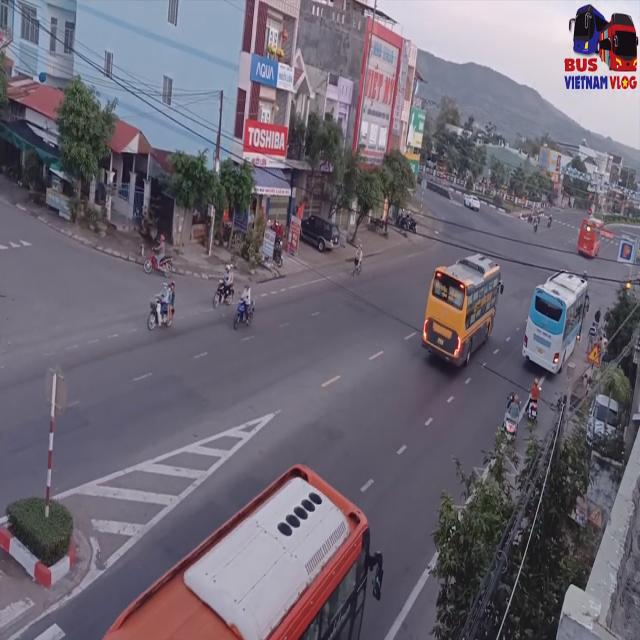bus: (104, 460, 385, 636), (424, 255, 504, 372), (523, 274, 592, 384), (577, 217, 604, 258)
motorbike: (149, 280, 176, 336), (233, 280, 254, 332), (214, 264, 234, 309), (504, 391, 519, 441), (527, 381, 541, 425)
